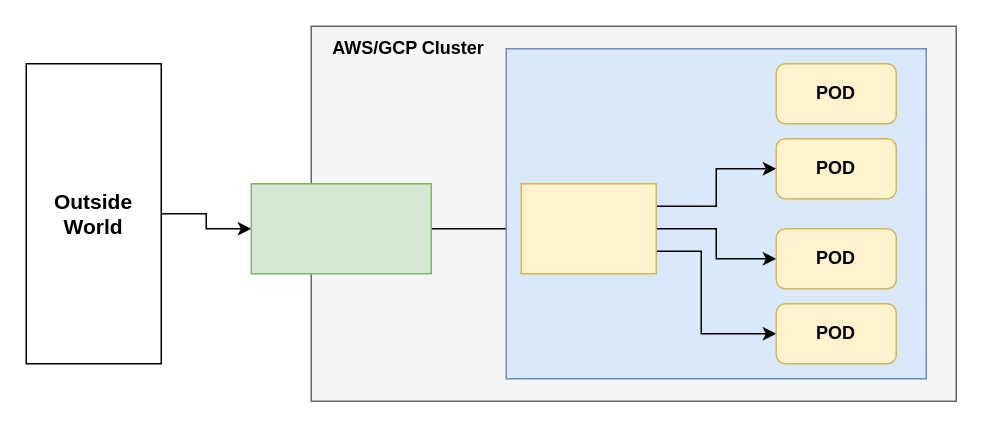
The diagram is 983 pixels wide and 428 high, and some of its shapes have lost their labels. The box of each missing label's shape, as (x1, y1, x2, y2) in pixels:
Ingress Controller: (520, 182, 656, 274)
Load Balancer: (250, 182, 431, 274)
